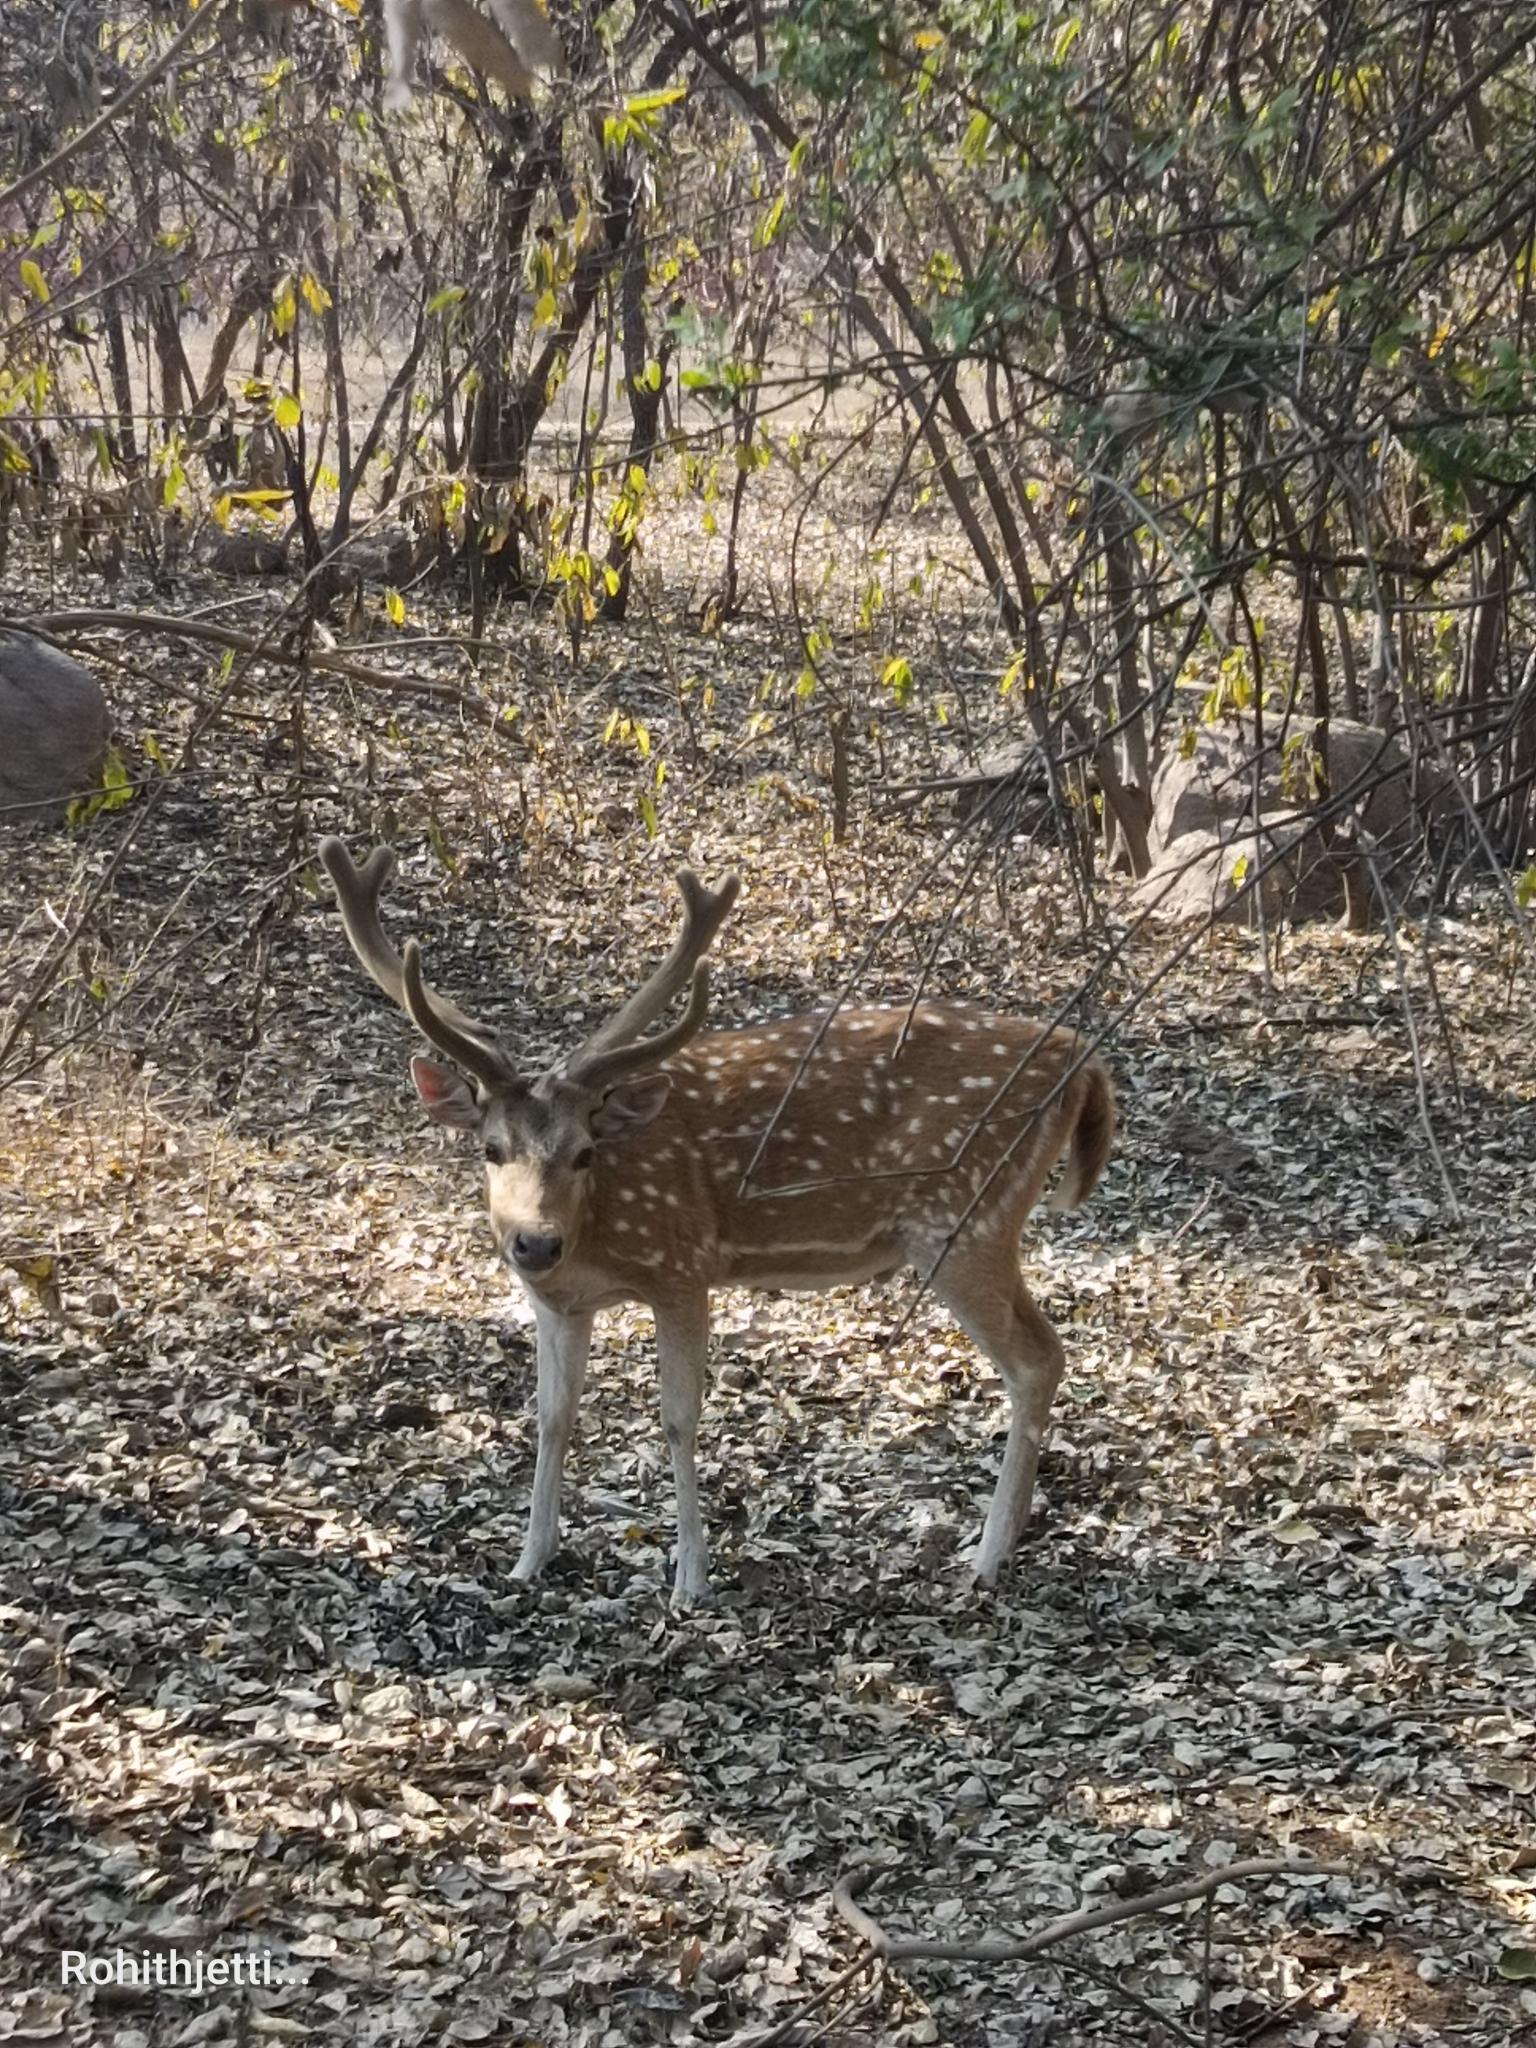Deer: (319, 839, 1112, 1601)
